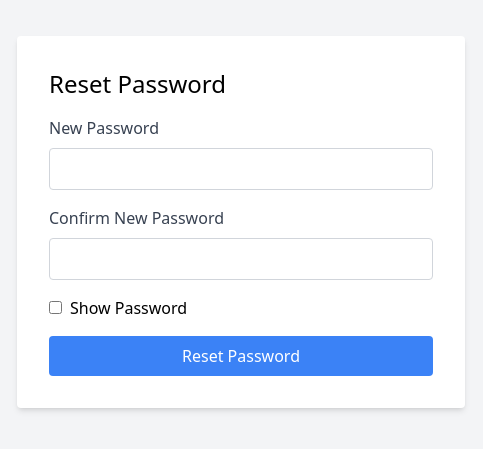
ResetPasswordPage › handles reset password error
Type "newpassword123" into the password field labelled "New Password".
click(241, 169); type("newpassword123")  # box [49,148,433,190]
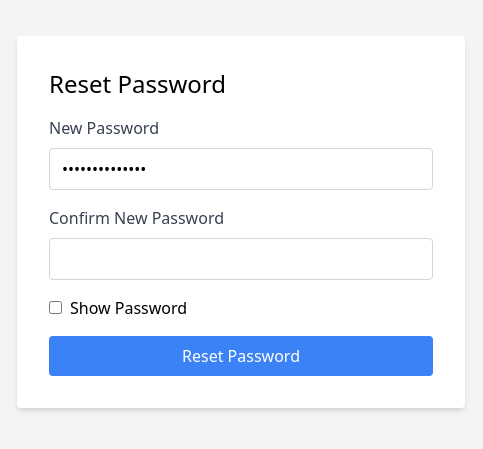
Type "newpassword123" into the password field labelled "Confirm New Password".
click(241, 259); type("newpassword123")  # box [49,238,433,280]
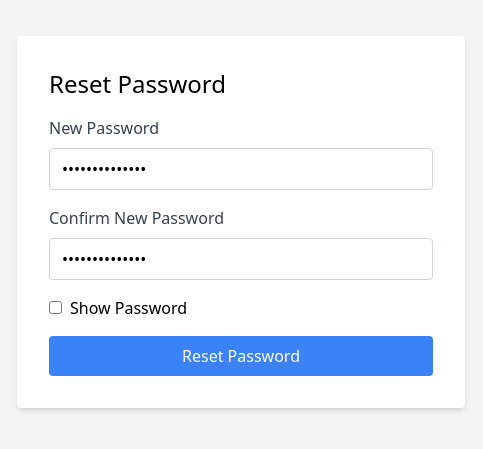
Click the button "Reset Password".
click(241, 356)  # box [49,336,433,376]
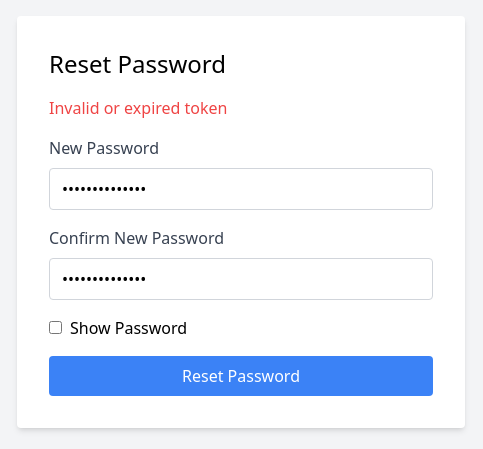
Expected: the text "Invalid or expired token" is shown, [49,97,228,119]
